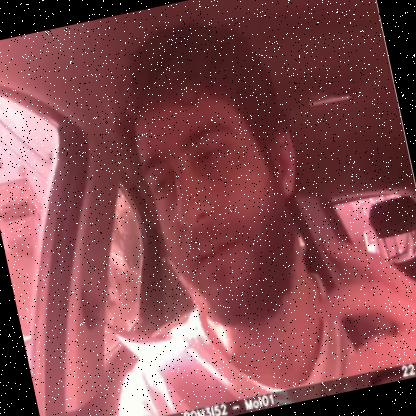phone: (290, 172, 402, 389)
